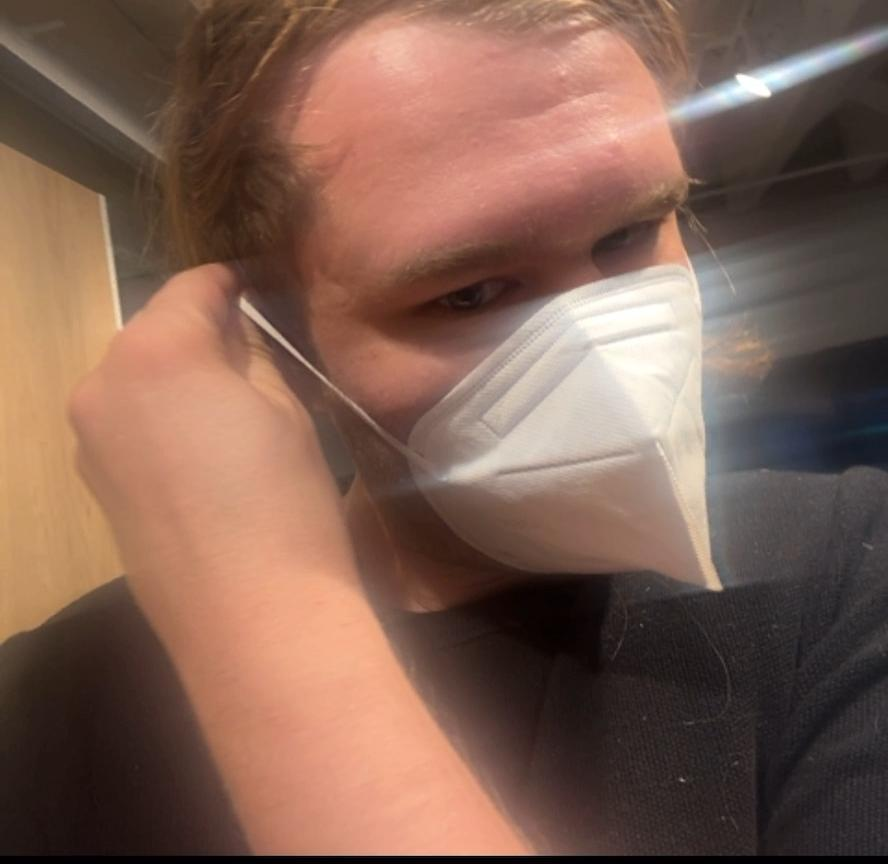NO-Hardhat: (167, 0, 770, 548)
